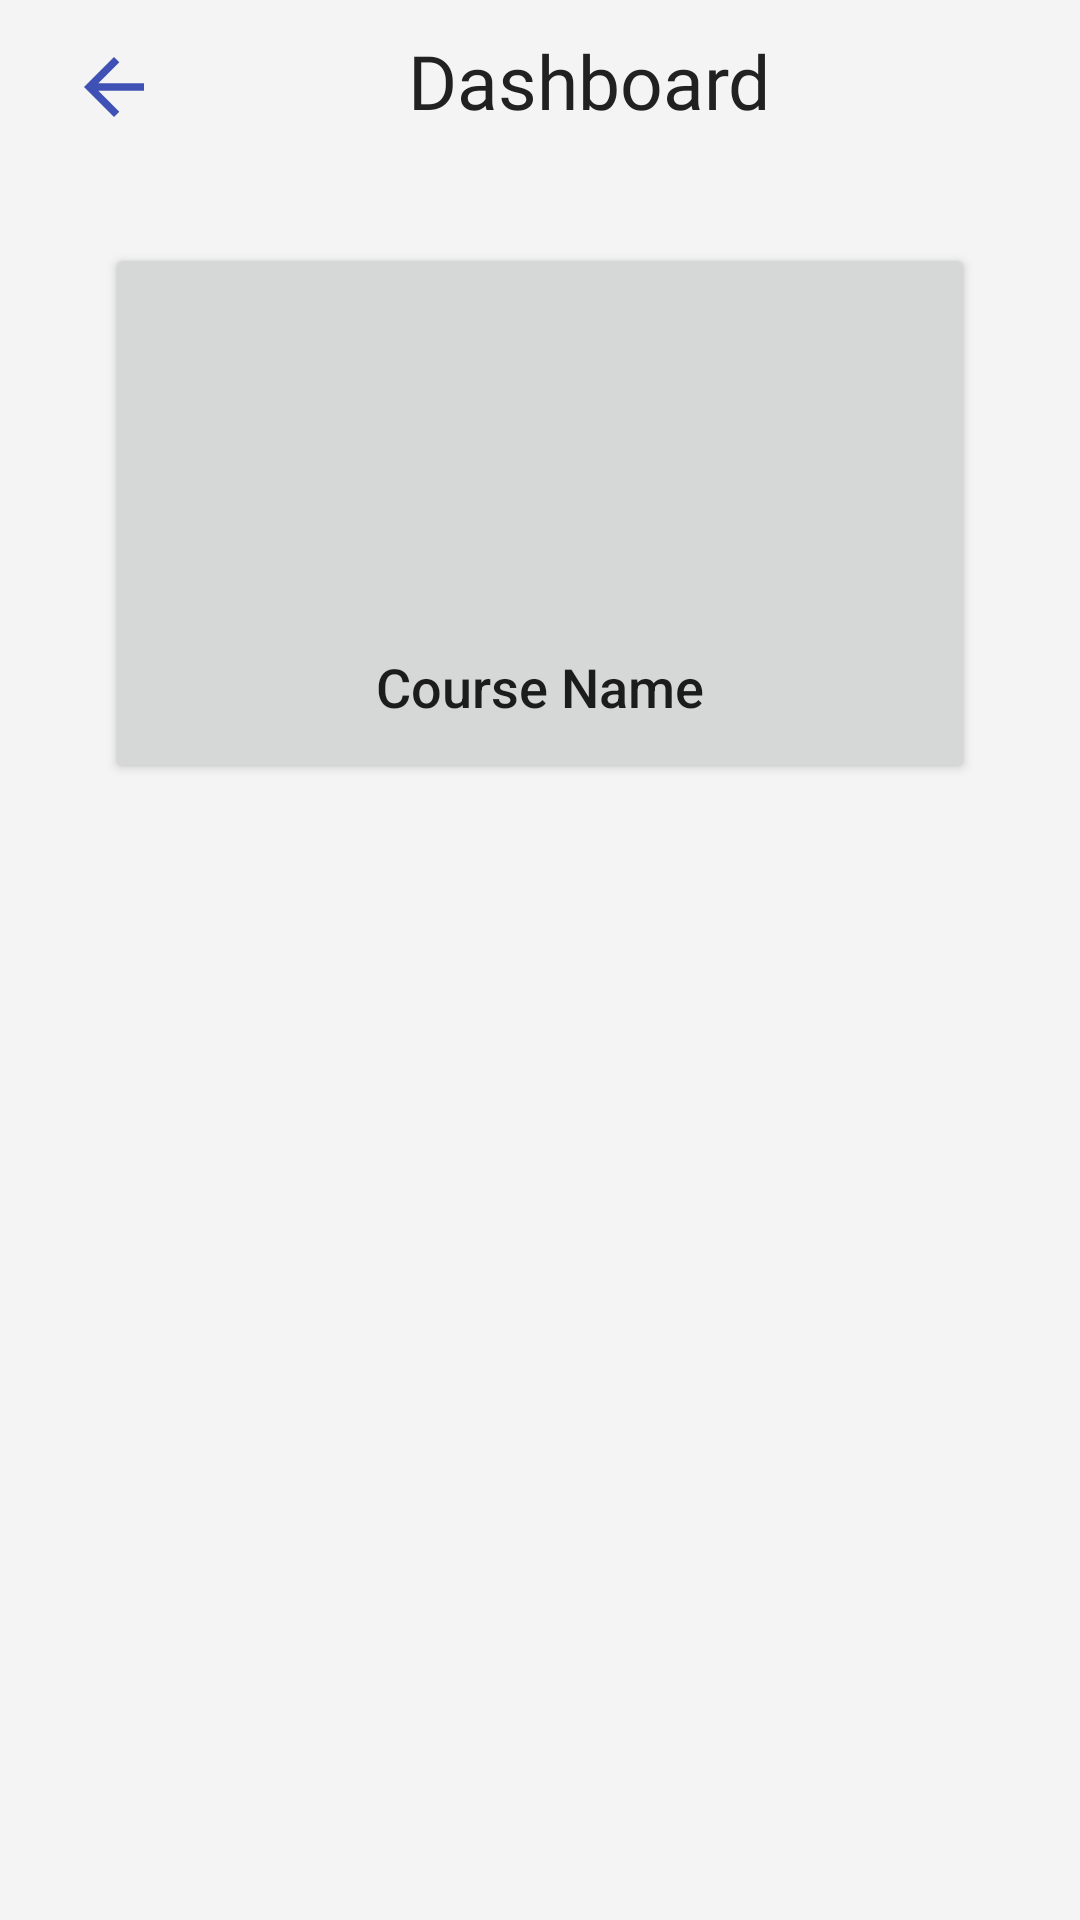

Locate icon controls on the screen. Image size 1080*1920, boxes as box(x1, y1, x2, y2).
arrow back: box(84, 57, 144, 117)
